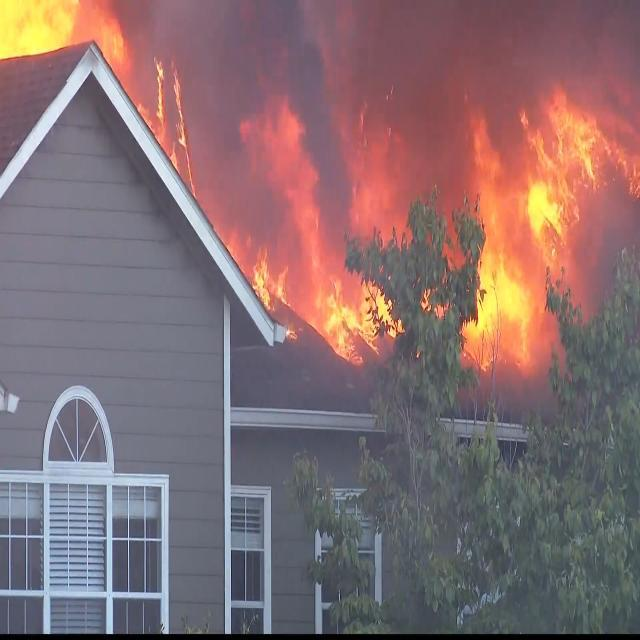Fire: (486, 94, 640, 208), (164, 36, 300, 152), (485, 202, 541, 358), (315, 266, 392, 364), (245, 221, 305, 320), (4, 1, 92, 49), (560, 206, 604, 280)
Smoke: (302, 5, 640, 152), (195, 9, 398, 227), (106, 1, 412, 129)
